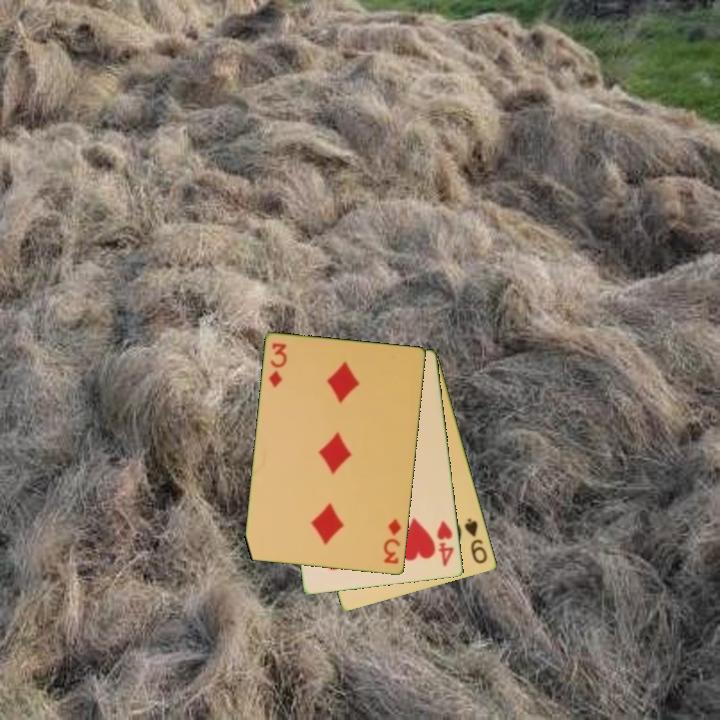3d: (266, 339, 290, 391), (380, 516, 404, 567)
4h: (434, 517, 457, 570)
9s: (461, 515, 491, 567)
